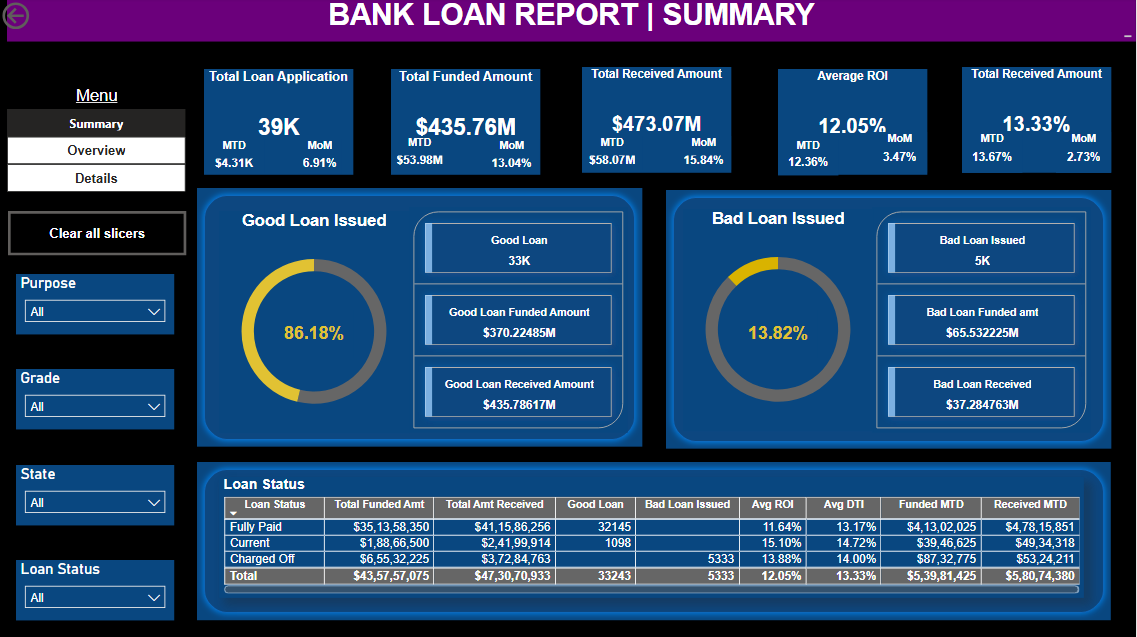

The page's visual inventory and layout, read from the dashboard file:
{"tool":"powerbi","page":{"name":"Summary","canvas":[1280,720],"ordinal":0},"visuals":[{"type":"shape","title":"Loan Status","box":[223.9,522,1028.2,177.8],"z":0},{"type":"textbox","title":"BANK LOAN REPORT | SUMMARY","box":[10.1,0,1269.9,49.3],"z":1000},{"type":"card","title":"Total Loan Application","fields":{"Values":["1_Measures.Total Loan Applications"]},"box":[231.8,79.9,167.6,119.2],"z":2000},{"type":"card","title":"MTD","fields":{"Values":["1_Measures.MTD"]},"box":[231.8,158.6,67.5,38.2],"z":3000},{"type":"card","title":"MoM","fields":{"Values":["1_Measures.MoM Loan Application"]},"box":[337.4,158.3,48.7,39],"z":4000},{"type":"card","title":"Total Funded Amount","fields":{"Values":["1_Measures.Total Funded Amt"]},"box":[442.1,79.9,167.6,119.2],"z":5000},{"type":"card","title":"MTD","fields":{"Values":["1_Measures.Funded MTD"]},"box":[443.2,155.2,61.9,38.2],"z":6000},{"type":"card","title":"MoM","fields":{"Values":["1_Measures.Mom Funded Application"]},"box":[545.6,158.6,64.1,38.2],"z":7000},{"type":"shape","box":[223.9,213.8,500.6,291.4],"z":8000},{"type":"card","title":"Total Received Amount","fields":{"Values":["1_Measures.Total Amt Received"]},"box":[657,77.6,167.6,119.2],"z":9000},{"type":"card","title":"MTD","fields":{"Values":["1_Measures.Received MTD"]},"box":[657,155.2,67.5,38.2],"z":10000},{"type":"card","title":"MoM","fields":{"Values":["1_Measures.Received MOM"]},"box":[762.8,155.2,61.9,38.2],"z":11000},{"type":"card","title":"Average ROI","fields":{"Values":["1_Measures.Avg ROI"]},"box":[877.5,79.9,167.6,119.2],"z":12000},{"type":"card","title":"Total Received Amount","fields":{"Values":["1_Measures.Avg DTI"]},"box":[1084.5,77.6,167.6,119.2],"z":13000},{"type":"card","title":"MTD","fields":{"Values":["1_Measures.Avg ROI MTD"]},"box":[877.5,158.6,67.5,40.5],"z":14000},{"type":"card","title":"MoM","fields":{"Values":["1_Measures.Avg ROI MOM"]},"box":[983.2,150.8,61.9,46.1],"z":15000},{"type":"card","title":"MTD","fields":{"Values":["1_Measures.Avg DTI MTD"]},"box":[1084.5,150.8,67.5,46.1],"z":16000},{"type":"card","title":"MoM","fields":{"Values":["1_Measures.Avg dti MoM"]},"box":[1190.2,150.8,61.9,46.1],"z":17000},{"type":"cardVisual","fields":{"Data":["1_Measures.Good Loan","1_Measures.Good Loan Funded Amount","1_Measures.Good Loan Received Amount"]},"box":[462.4,235.1,246.4,254.2],"z":18000},{"type":"donutChart","title":"Good Loan Issued","fields":{"Y":["1_Measures.Total Loan Applications","1_Measures.Good Loan","1_Measures.Good Loan %"]},"box":[248.6,239.6,213.8,249.8],"z":19000},{"type":"card","title":"Total Received Amount","fields":{"Values":["1_Measures.Good Loan %"]},"box":[311.6,351,87.8,54],"z":20000},{"type":"shape","box":[751.5,216,500.6,291.4],"z":21000},{"type":"cardVisual","fields":{"Data":["1_Measures.Bad Loan Issued","1_Measures.Bad Loan Funded amt","1_Measures.Bad Loan Received"]},"box":[983.2,235.1,246.4,254.2],"z":22000},{"type":"donutChart","title":"Bad Loan Issued","fields":{"Y":["1_Measures.Total Loan Applications","1_Measures.Bad Loan Issued"]},"box":[770.6,237.4,213.8,249.8],"z":23000},{"type":"card","title":"Total Received Amount","fields":{"Values":["1_Measures.Bad Loan %"]},"box":[833.6,351,87.8,54],"z":24000},{"type":"tableEx","title":"Loan Status","fields":{"Values":["financial_loan.loan_status","1_Measures.Total Funded Amt","1_Measures.Total Amt Received","1_Measures.Good Loan","1_Measures.Bad Loan Issued","1_Measures.Avg ROI","1_Measures.Avg DTI","1_Measures.Funded MTD","1_Measures.Received MTD"]},"box":[248.6,538.9,973.1,136.1],"z":25000},{"type":"slicer","title":"Purpose","fields":{"Values":["financial_loan.purpose"]},"box":[20.2,310.5,177.8,67.5],"z":26000},{"type":"slicer","title":"Grade","fields":{"Values":["financial_loan.grade"]},"box":[20.2,417.8,177.8,67.5],"z":27000},{"type":"slicer","title":"State","fields":{"Values":["financial_loan.address_state"]},"box":[20.2,525,177.8,67.5],"z":28000},{"type":"slicer","title":"Loan Status","fields":{"Values":["financial_loan.loan_status"]},"box":[20.2,632.2,177.8,67.5],"z":29000},{"type":"actionButton","box":[10.9,239.5,200.6,49.8],"z":30000},{"type":"pageNavigator","box":[0,108.2,600.5,49.8],"z":31000},{"type":"pageNavigator","title":"Menu","box":[9.7,98.5,201.8,119.1],"z":32000},{"type":"actionButton","box":[0,0,100,40],"z":33000}]}

Visuals, with their boxes in screenshot pixels (x1, y1, x2, y2), scaled from the page's 1280x720 canvas onto the 1137x637 screenshot:
"Loan Status" shape: Rect(199, 462, 1112, 619)
"BANK LOAN REPORT | SUMMARY" textbox: Rect(9, 0, 1136, 44)
"Total Loan Application" card: Rect(206, 71, 355, 176)
"MTD" card: Rect(206, 140, 266, 174)
"MoM" card: Rect(300, 140, 343, 175)
"Total Funded Amount" card: Rect(393, 71, 542, 176)
"MTD" card: Rect(394, 137, 449, 171)
"MoM" card: Rect(485, 140, 542, 174)
shape: Rect(199, 189, 644, 447)
"Total Received Amount" card: Rect(584, 69, 732, 174)
"MTD" card: Rect(584, 137, 644, 171)
"MoM" card: Rect(678, 137, 733, 171)
"Average ROI" card: Rect(779, 71, 928, 176)
"Total Received Amount" card: Rect(963, 69, 1112, 174)
"MTD" card: Rect(779, 140, 839, 176)
"MoM" card: Rect(873, 133, 928, 174)
"MTD" card: Rect(963, 133, 1023, 174)
"MoM" card: Rect(1057, 133, 1112, 174)
cardVisual - 1_Measures.Good Loan x 1_Measures.Good Loan Funded Amount: Rect(411, 208, 630, 433)
"Good Loan Issued" donutChart: Rect(221, 212, 411, 433)
"Total Received Amount" card: Rect(277, 311, 355, 358)
shape: Rect(668, 191, 1112, 449)
cardVisual - 1_Measures.Bad Loan Issued x 1_Measures.Bad Loan Funded amt: Rect(873, 208, 1092, 433)
"Bad Loan Issued" donutChart: Rect(685, 210, 874, 431)
"Total Received Amount" card: Rect(740, 311, 818, 358)
"Loan Status" tableEx: Rect(221, 477, 1085, 597)
"Purpose" slicer: Rect(18, 275, 176, 334)
"Grade" slicer: Rect(18, 370, 176, 429)
"State" slicer: Rect(18, 464, 176, 524)
"Loan Status" slicer: Rect(18, 559, 176, 619)
actionButton: Rect(10, 212, 188, 256)
pageNavigator: Rect(0, 96, 533, 140)
"Menu" pageNavigator: Rect(9, 87, 188, 193)
actionButton: Rect(0, 0, 89, 35)
